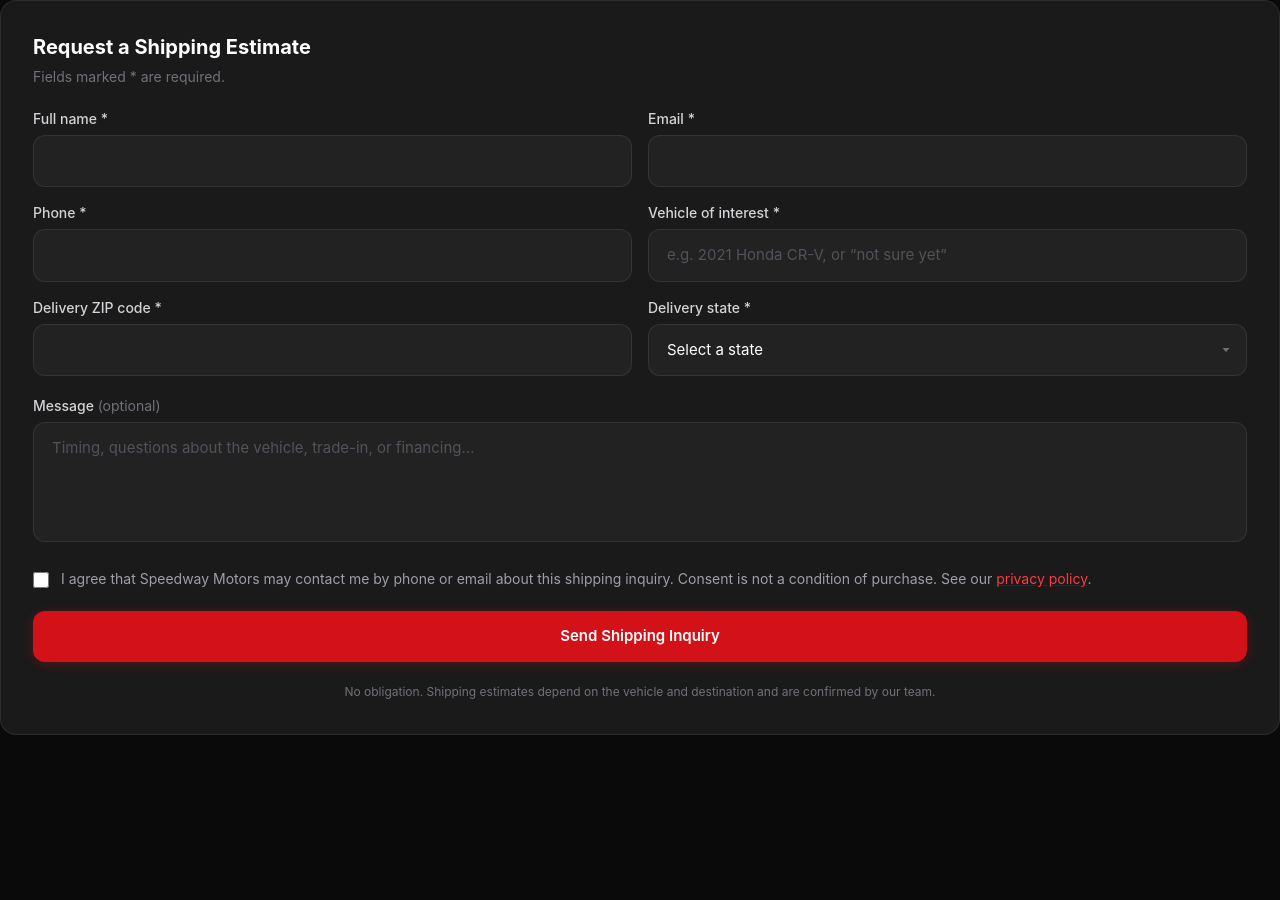
Test: shipping inquiry form › shows accessible, field-level errors and focuses the first invalid field
Click the button "Send Shipping Inquiry": (640, 636) [33,611,1247,662]
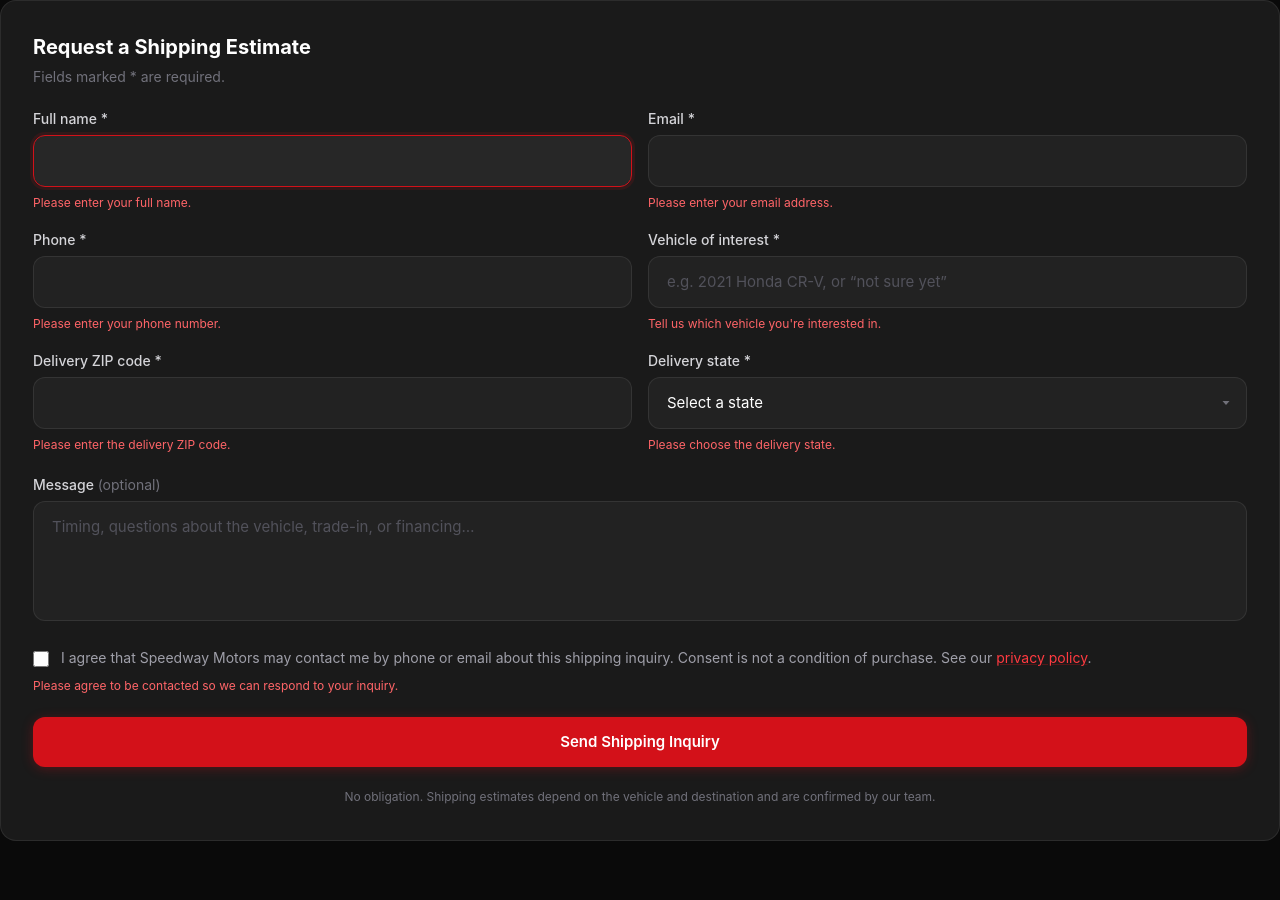
Now the text with id "shipping-name-error" reads "Please enter your full name.", box [33,195,191,210]
